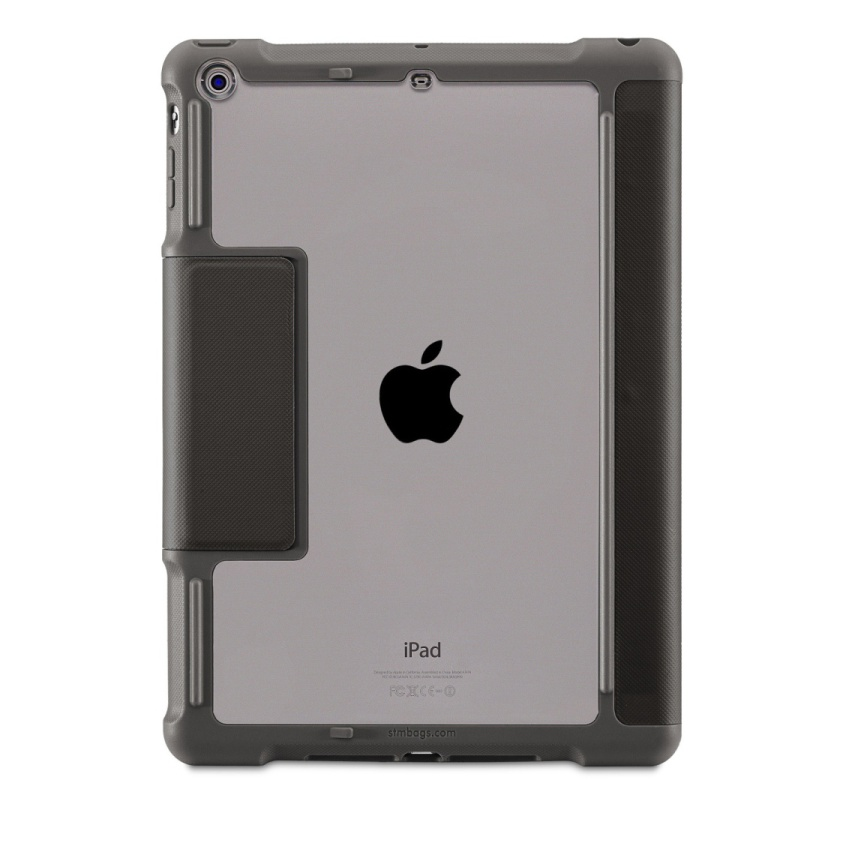apple: (355, 327, 500, 465)
